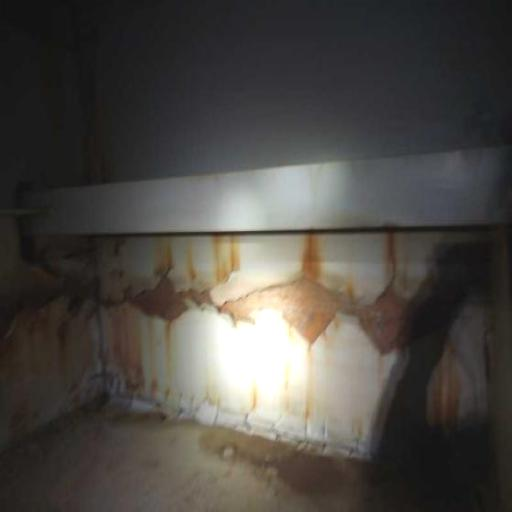Detect-rust-on-metal-surfaces: (0, 228, 510, 511), (40, 8, 116, 177)
